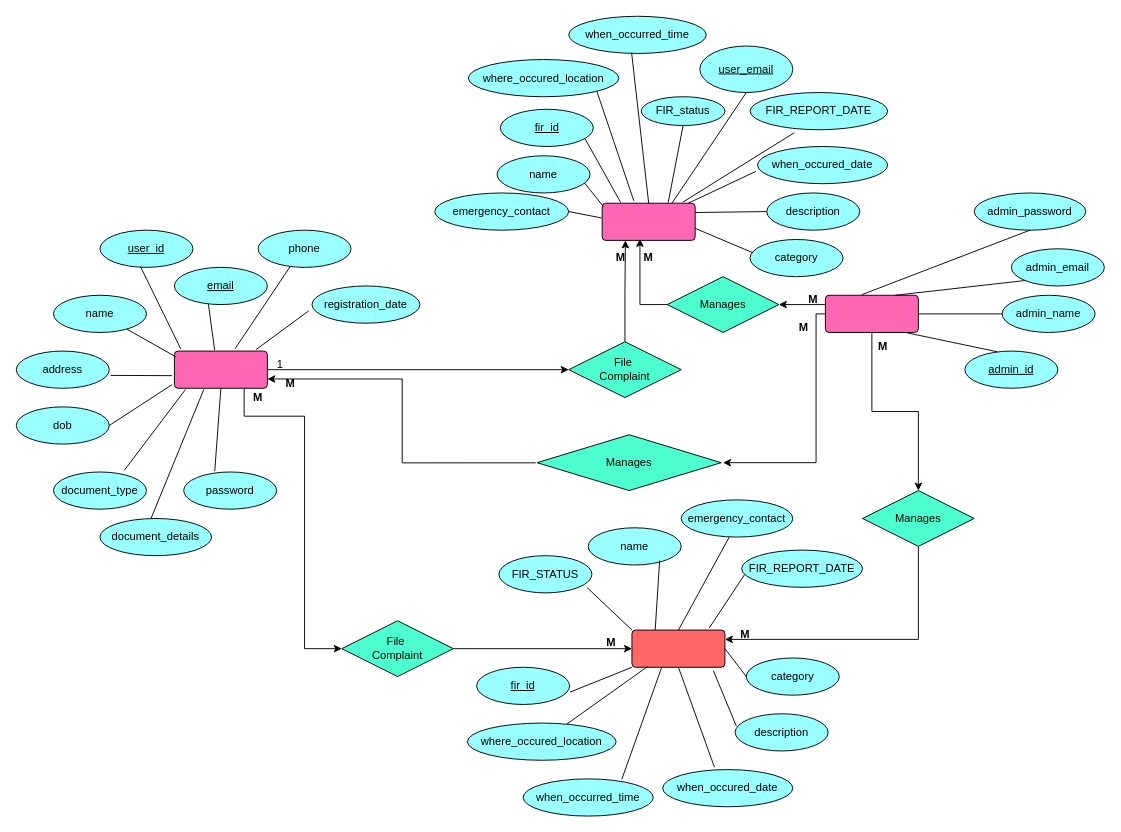
Image size: 1121x832. Some labels were removed from this diagram. The centre of each missing label's shape, as x and y in pixels:
admin: the point at 871,313
after_login_FIR: the point at 648,221
quick_FIR: the point at 678,648
users: the point at 220,369
